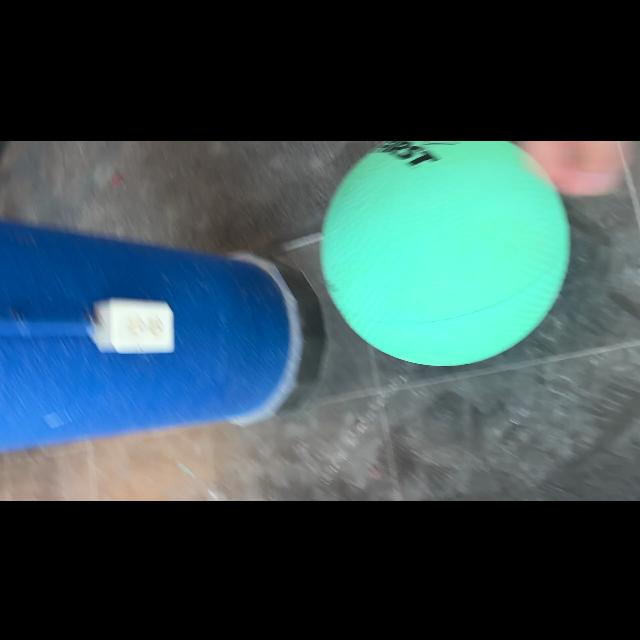ALGAE: (319, 142, 571, 366)
